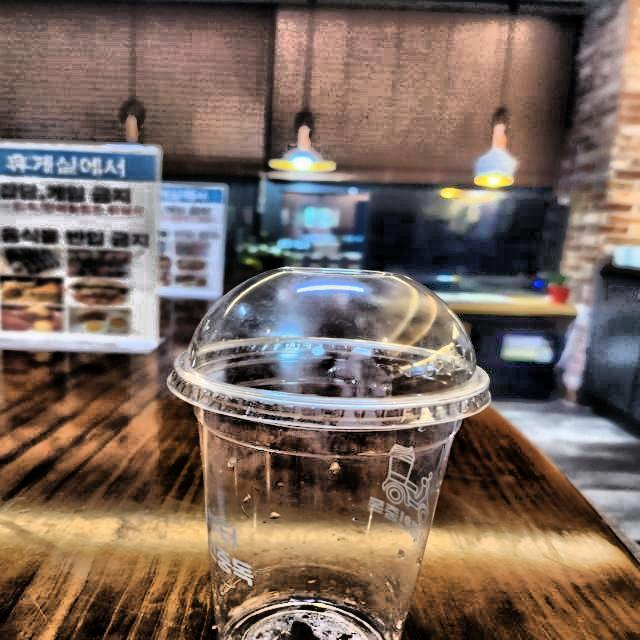plastic cup: (141, 244, 506, 640)
